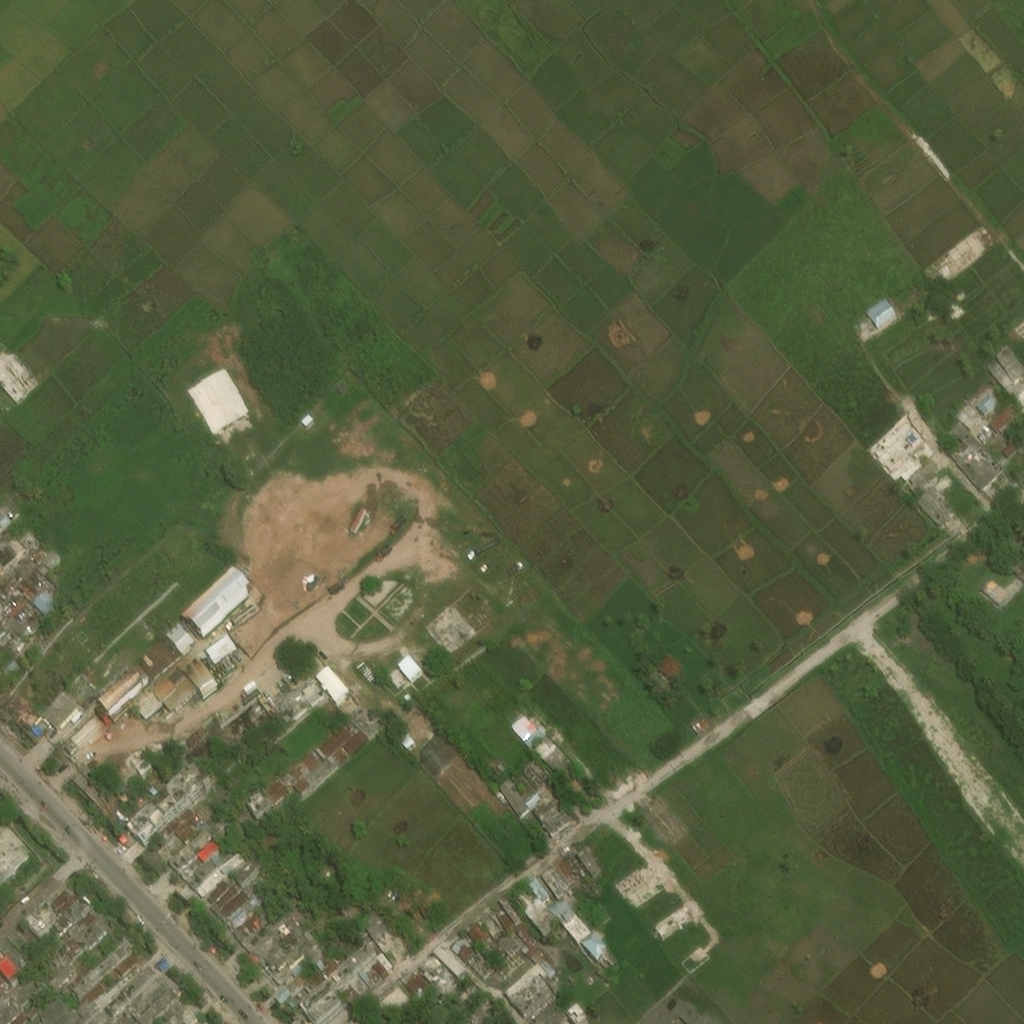minor_damage: (126, 798, 166, 836), (157, 772, 196, 808)
no_damage: (297, 939, 383, 1020), (946, 416, 1016, 497), (182, 572, 256, 644), (138, 625, 197, 685), (266, 929, 325, 980), (100, 669, 149, 720), (93, 960, 144, 1008), (162, 776, 215, 822), (914, 482, 961, 528), (47, 895, 92, 941), (305, 744, 351, 788), (241, 910, 288, 951), (122, 967, 161, 1015), (0, 979, 42, 1023), (0, 541, 47, 580), (168, 828, 213, 868), (418, 944, 465, 981), (19, 898, 61, 939), (434, 605, 475, 646), (493, 775, 530, 819), (512, 983, 556, 1020), (176, 843, 218, 881), (535, 805, 578, 842), (269, 683, 308, 723), (40, 998, 101, 1023), (131, 983, 172, 1020), (506, 967, 549, 1001), (345, 966, 384, 1001), (43, 691, 80, 727), (549, 857, 586, 893), (908, 455, 944, 492), (343, 708, 388, 737), (72, 911, 109, 946), (991, 342, 1023, 382), (283, 959, 318, 994), (72, 963, 107, 998), (359, 910, 395, 943), (318, 722, 352, 756), (214, 888, 250, 920), (0, 927, 27, 969), (529, 996, 571, 1023), (541, 865, 572, 901), (154, 990, 187, 1023), (209, 878, 242, 910), (978, 571, 1011, 603), (250, 931, 284, 962), (187, 857, 221, 888), (100, 941, 135, 971), (23, 587, 59, 616), (310, 998, 351, 1023), (42, 957, 75, 988), (278, 760, 311, 791), (158, 807, 192, 837), (187, 657, 215, 693), (0, 688, 29, 722), (230, 911, 264, 940), (493, 948, 528, 976), (505, 957, 538, 986), (561, 918, 594, 947), (41, 738, 71, 768), (239, 695, 271, 723), (0, 619, 29, 649), (478, 749, 507, 779), (261, 778, 290, 807), (544, 746, 573, 775), (475, 907, 504, 936), (383, 974, 413, 1002), (530, 951, 560, 979), (989, 401, 1019, 429), (53, 887, 84, 914), (523, 780, 554, 807), (245, 796, 274, 824), (526, 875, 554, 904), (151, 680, 180, 707), (104, 991, 132, 1018), (42, 880, 70, 907), (655, 652, 682, 680), (32, 549, 62, 573), (52, 933, 82, 957), (234, 860, 261, 886), (65, 962, 92, 988), (342, 728, 369, 754), (964, 382, 993, 406), (315, 954, 343, 978), (202, 876, 228, 901), (582, 856, 606, 883), (0, 947, 19, 981), (18, 530, 43, 555), (1, 586, 25, 612), (179, 662, 203, 688), (372, 988, 397, 1012), (0, 978, 23, 1004), (500, 899, 523, 925), (511, 920, 534, 945), (222, 906, 248, 928), (173, 816, 196, 840), (50, 976, 73, 1000), (467, 923, 491, 946), (12, 918, 35, 941), (168, 1006, 199, 1023), (119, 834, 144, 855), (240, 894, 266, 914), (274, 919, 297, 941), (687, 708, 710, 730), (540, 945, 562, 968), (0, 852, 16, 883), (8, 596, 30, 618), (498, 934, 521, 955), (495, 908, 516, 931), (205, 632, 229, 652), (84, 978, 108, 998), (85, 1007, 115, 1023), (304, 684, 325, 706), (158, 857, 179, 879), (83, 933, 104, 955), (300, 750, 322, 771), (551, 902, 573, 923), (425, 974, 450, 992), (517, 890, 538, 911), (19, 716, 41, 736), (76, 903, 98, 923), (29, 569, 52, 588), (303, 967, 326, 986), (1, 1007, 28, 1023), (20, 574, 41, 594), (323, 701, 345, 720), (136, 1007, 162, 1023), (562, 1009, 590, 1023), (409, 967, 428, 987), (490, 928, 509, 948), (3, 568, 24, 586), (185, 805, 206, 823), (115, 954, 136, 972), (14, 603, 35, 620), (137, 825, 157, 842), (186, 765, 205, 782), (285, 994, 303, 1011), (274, 985, 292, 1002), (294, 779, 312, 796), (997, 373, 1015, 390), (402, 972, 421, 988), (520, 942, 539, 958), (450, 977, 465, 997), (975, 417, 989, 438), (162, 828, 179, 845), (375, 960, 392, 977), (544, 978, 561, 995), (563, 910, 580, 927), (1001, 437, 1019, 453), (0, 513, 13, 535), (28, 607, 42, 627), (397, 731, 414, 747), (457, 942, 475, 957), (449, 935, 465, 951), (152, 815, 167, 831), (242, 876, 256, 893), (75, 758, 90, 772), (319, 694, 334, 708), (314, 743, 328, 758), (0, 606, 11, 625), (1, 580, 14, 596), (0, 666, 14, 680), (6, 658, 20, 672), (411, 984, 426, 997), (490, 944, 505, 957), (63, 737, 77, 750), (17, 954, 30, 968), (0, 970, 10, 987), (85, 753, 98, 766), (196, 881, 209, 893), (566, 889, 579, 901), (1013, 392, 1023, 407), (1015, 563, 1023, 579), (453, 971, 464, 982), (556, 888, 567, 899), (18, 583, 30, 593), (483, 941, 490, 953), (462, 977, 471, 986), (528, 935, 538, 943), (544, 900, 553, 908), (989, 376, 998, 384), (0, 577, 7, 586)
unclassified: (462, 1007, 491, 1023), (4, 506, 21, 521), (336, 381, 349, 395), (229, 632, 241, 643), (225, 626, 236, 637)
